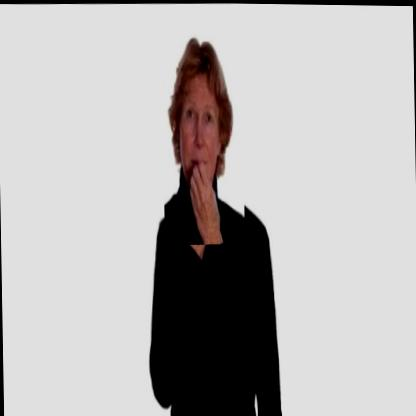Food: (160, 17, 244, 244)
